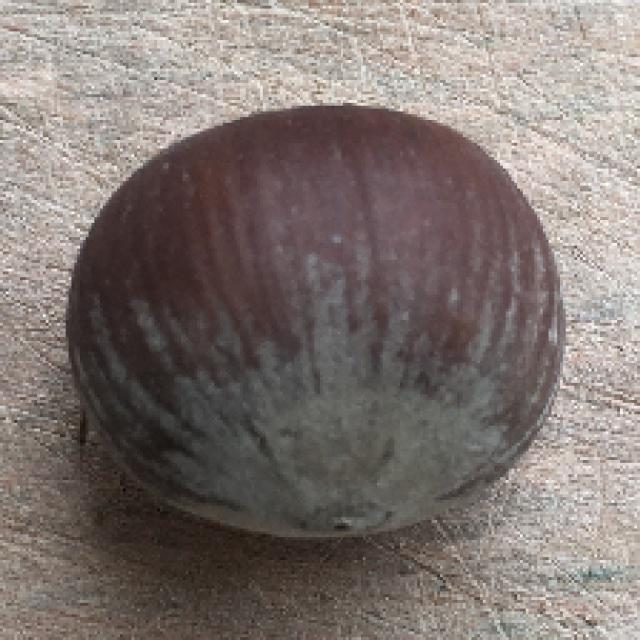DamagedHazelnut: (66, 108, 557, 538)
